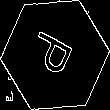P_SE: (27, 27, 83, 83)
